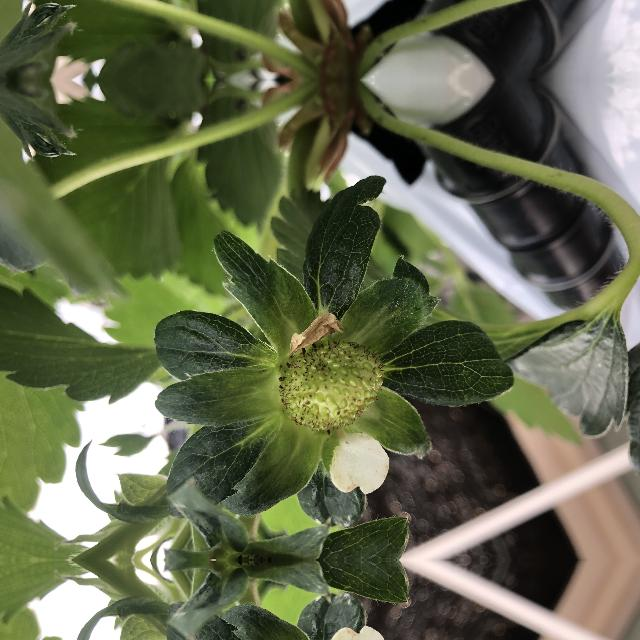Health_25: (280, 334, 390, 432)
